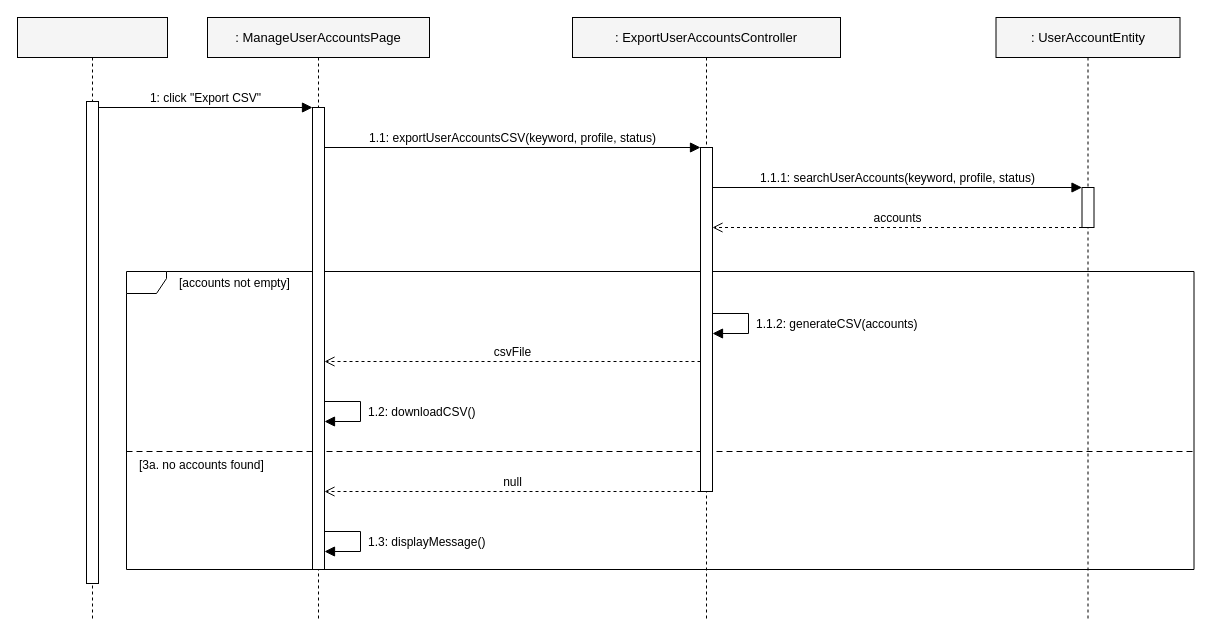
The diagram is 1213 pixels wide and 637 high, and some of its shapes have lost their labels. Here are the shapes that lost their labels. From the top down, the box of each, then its label:
(16, 16, 168, 620): Administrator
(126, 270, 1194, 570): alt
